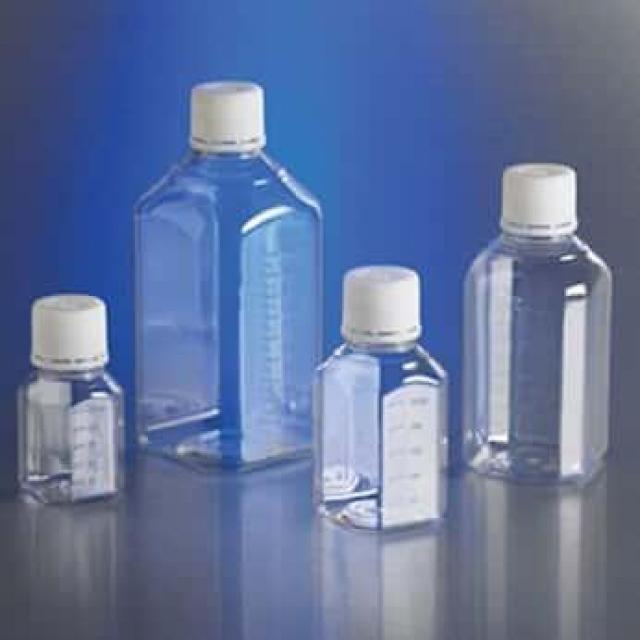plastic_bottle: (135, 83, 329, 475), (463, 157, 611, 485), (311, 267, 451, 528), (16, 299, 130, 504)
